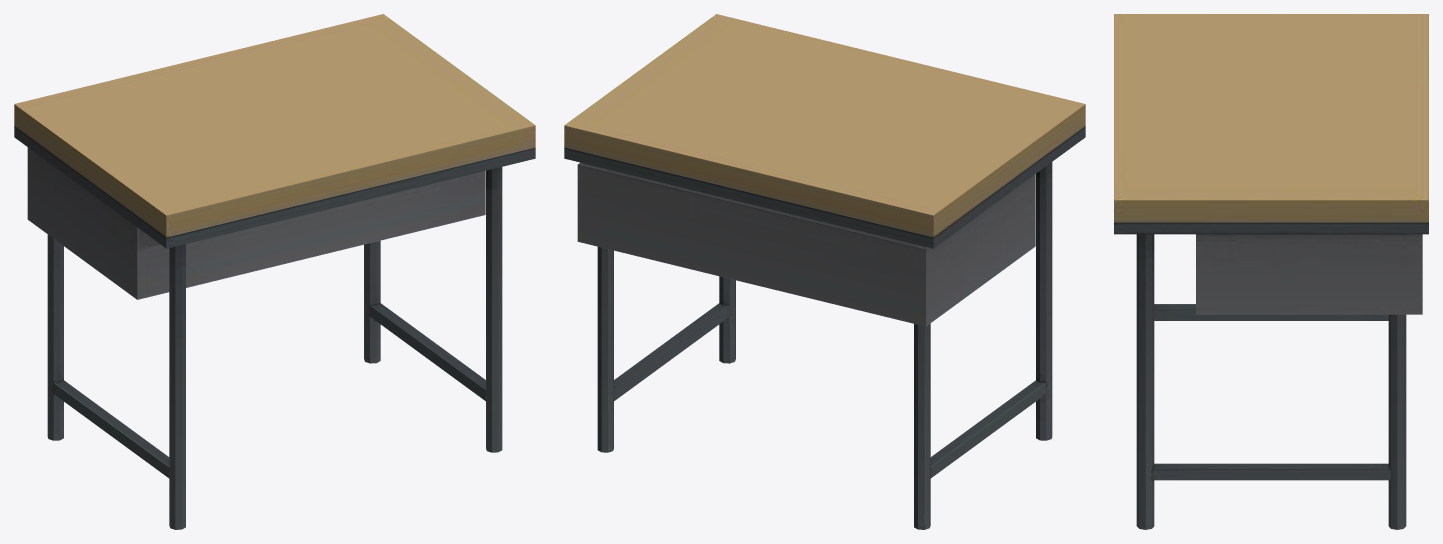
Rendered from prop_desk.glb.
3 renders of one model, left to right at view 1: azimuth 30°, elevation 25°; view 2: azimuth 150°, elevation 25°; view 3: azimuth 270°, elevation 25°, orthographic. The views are drawn at different scales.
Parts seen in each view (by area): view 1: Desk; view 2: Desk; view 3: Desk.
Part boxes in pixels (bbox=[...]): Desk: bbox=[14, 14, 535, 529]; Desk: bbox=[564, 14, 1085, 529]; Desk: bbox=[1114, 14, 1428, 529].
Size of the model in its own units: 0.7 by 0.595 by 0.5.
3 materials, 3 textured.
